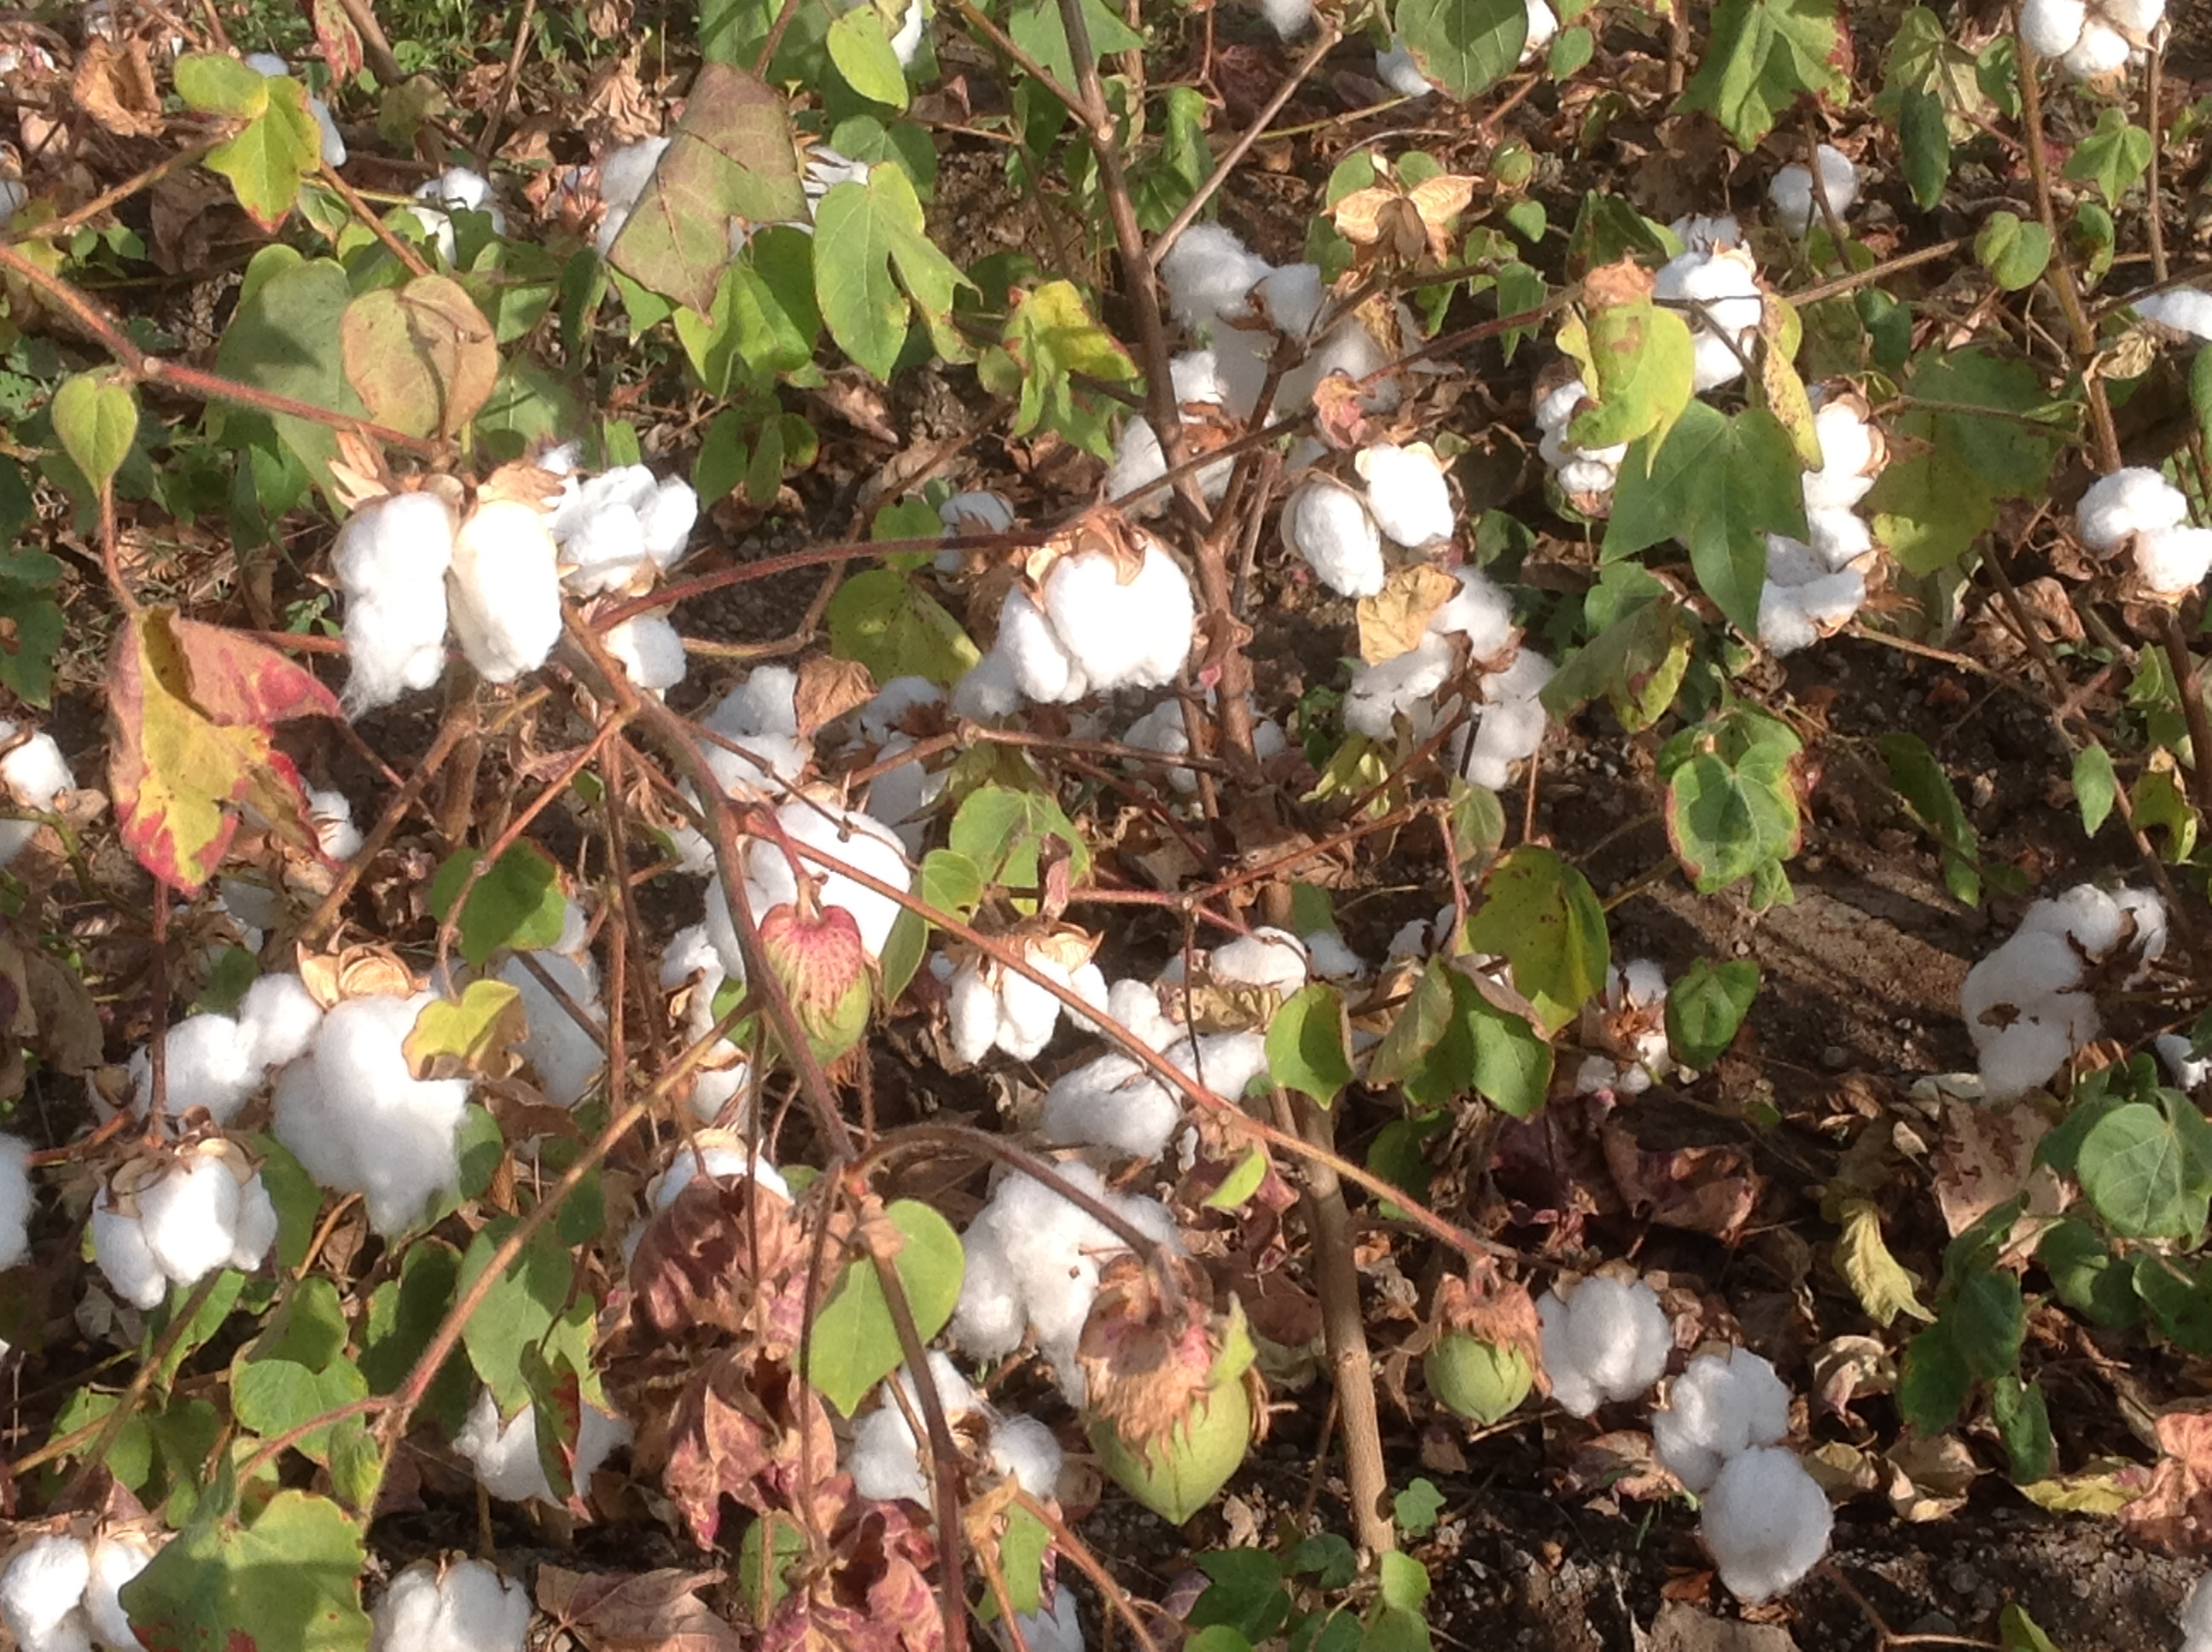cotton: (1043, 927, 1308, 1180), (946, 1144, 1204, 1397), (312, 474, 569, 717), (253, 968, 474, 1225), (1705, 383, 1903, 665), (696, 788, 928, 1012), (1947, 871, 2163, 1109), (1142, 233, 1433, 408), (618, 619, 828, 854), (850, 1352, 1088, 1558), (1657, 1352, 1841, 1603), (517, 458, 708, 698), (585, 130, 888, 276), (1341, 564, 1556, 762), (973, 510, 1190, 698), (925, 902, 1129, 1076), (448, 1345, 647, 1513), (1607, 219, 1773, 411), (632, 1119, 800, 1301), (73, 1012, 328, 1130), (203, 777, 378, 944), (1287, 434, 1450, 590), (99, 1140, 291, 1272), (1086, 361, 1270, 498), (1530, 1274, 1678, 1430), (2068, 458, 2207, 623), (338, 1553, 559, 1652), (1541, 961, 1685, 1112), (0, 1520, 177, 1642), (212, 42, 345, 187), (1988, 0, 2189, 82), (1381, 0, 1572, 85), (383, 174, 519, 279), (0, 711, 90, 868), (1541, 377, 1646, 498), (1757, 134, 1858, 222), (2124, 278, 2209, 359), (0, 1119, 33, 1281)
